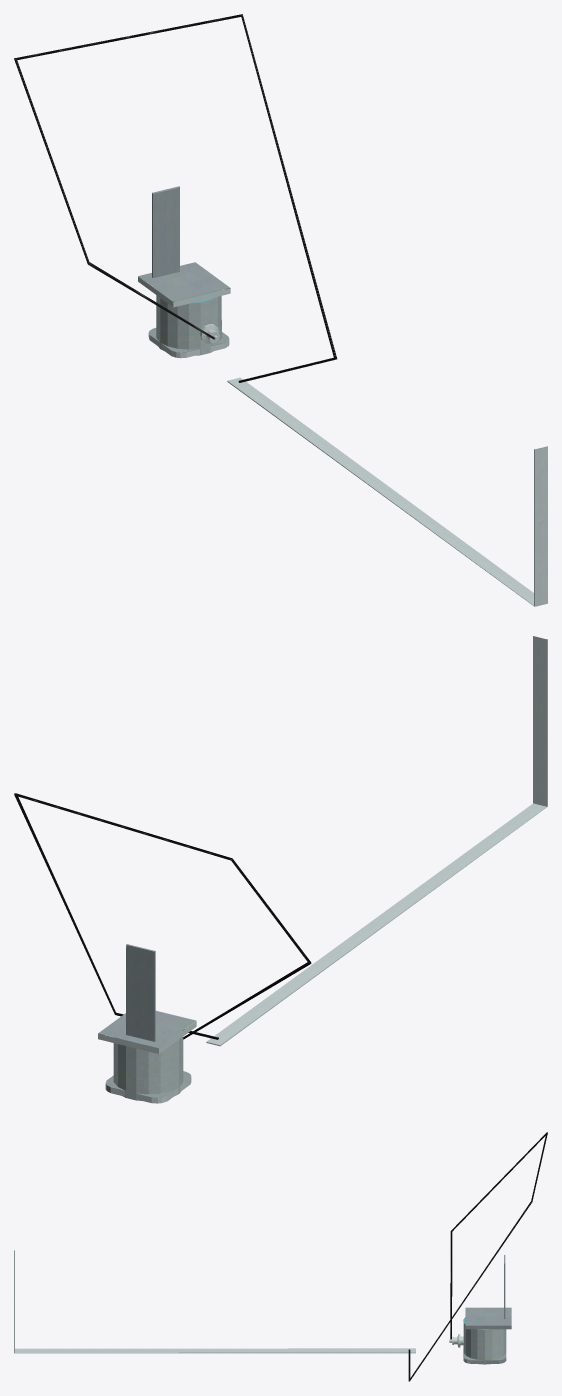
The model's file is jsq002-geode.glb.
3 views of the same model, one above another, from view 1: azimuth 30°, elevation 25°; view 2: azimuth 150°, elevation 25°; view 3: azimuth 270°, elevation 25° (orthographic). The views are drawn at different scales.
Parts seen in each view (by area): view 1: Node; view 2: Node; view 3: Node.
Boxes of the visible parts, <box> form: Node: <box>14,14,547,606</box>; Node: <box>14,636,547,1103</box>; Node: <box>14,1132,547,1381</box>.
Size of the model in its own units: 0.5011 by 0.6179 by 1.64.
4 materials, 4 textured.
